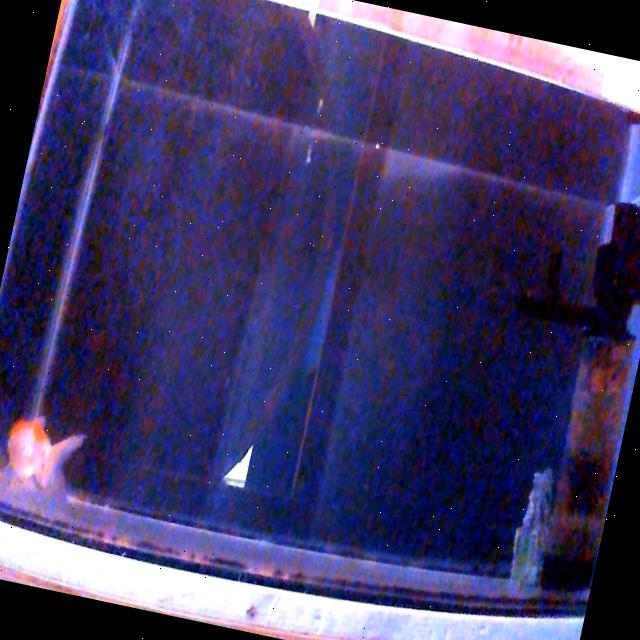fish: (0, 409, 89, 497)
